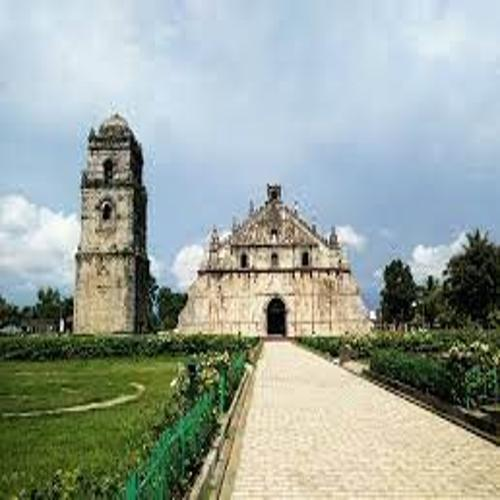Paoay Church: (61, 99, 381, 354)
